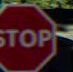Stop: (0, 1, 59, 71)
